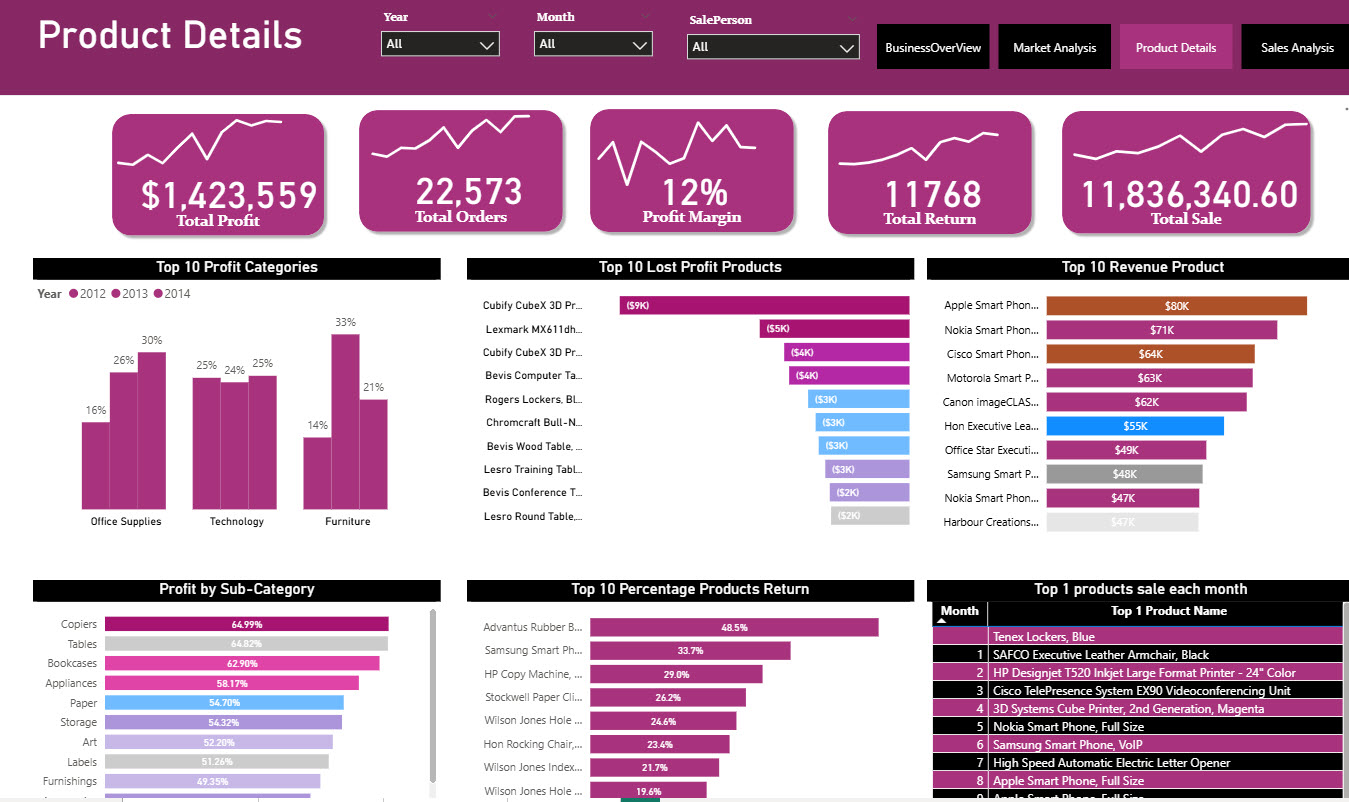

The page's visual inventory and layout, read from the dashboard file:
{"tool":"powerbi","page":{"name":"Product Details","canvas":[1512,1000],"ordinal":2},"visuals":[{"type":"shape","box":[651.6,119.1,239.9,150.1],"z":0,"group":"g3"},{"type":"shape","box":[395,120.5,239.9,148.8],"z":0,"group":"g2"},{"type":"shape","box":[915.7,120.9,239.9,150.1],"z":0,"group":"g4"},{"type":"shape","box":[1175.8,121.1,289.9,149.7],"z":0,"group":"g5"},{"type":"shape","box":[119.7,124.6,249.1,148.4],"z":0,"group":"g1"},{"type":"clusteredColumnChart","title":"Top 10 Profit Categories","fields":{"Category":["Orders.Category"],"Y":["Dim_Date.Revenue YoY Growth %"],"Series":["Dim_Date.Year"]},"box":[38.9,291.1,453.3,306.7],"z":0},{"type":"card","fields":{"Values":["Orders.Total Order"]},"box":[407.7,177.7,231.5,68.8],"z":1000,"group":"g2"},{"type":"card","fields":{"Values":["Orders.Profit Margin"]},"box":[657.9,179.3,231.2,69.4],"z":1000,"group":"g3"},{"type":"card","fields":{"Values":["Orders.Total Sales"]},"box":[1183.4,181.1,279.4,69.2],"z":1000,"group":"g5"},{"type":"card","fields":{"Values":["Orders.ReturnProduct"]},"box":[921.9,181.2,231.2,69.4],"z":1000,"group":"g4"},{"type":"card","fields":{"Values":["Orders.Total Profit"]},"box":[132,182.1,249.2,68.8],"z":1000,"group":"g1"},{"type":"clusteredBarChart","title":"Top 10  Revenue Product","fields":{"Category":["Orders.Product Name"],"Y":["Sum(Orders.Sales)"]},"box":[1032.2,291.1,480,320],"z":1000},{"type":"shape","box":[0,0,1520,111.2],"z":2000},{"type":"lineChart","fields":{"Category":["Dim_Date.Month"],"Y":["Orders.Total Profit"]},"box":[102.2,110,276.4,91],"z":2000,"group":"g1"},{"type":"lineChart","fields":{"Category":["Dim_Date.Month"],"Y":["Orders.Percentage Return"]},"box":[636.7,113.3,266.7,106.7],"z":2000,"group":"g3"},{"type":"lineChart","fields":{"Category":["Dim_Date.Month"],"Y":["Orders.Total Order"]},"box":[385.6,116.7,266.7,91.1],"z":2000,"group":"g2"},{"type":"lineChart","fields":{"Category":["Dim_Date.Month"],"Y":["Orders.ReturnProduct"]},"box":[904.4,120,268.9,93.3],"z":2000,"group":"g4"},{"type":"lineChart","fields":{"Category":["Dim_Date.Month"],"Y":["Orders.Total Sales"]},"box":[1157.8,128.2,311.1,78.9],"z":2000,"group":"g5"},{"type":"clusteredBarChart","title":"Top 10 Lost Profit Products","fields":{"Y":["Orders.Total Profit"],"Category":["Orders.Product Name"]},"box":[521.1,291.1,496.7,312.2],"z":3000},{"type":"clusteredBarChart","title":"Profit YoY Growth by Sub-Category","fields":{"Category":["Orders.Sub-Category"],"Y":["Dim_Date.Profit YoY Growth"]},"box":[38.9,648.9,453.3,312.2],"z":4000},{"type":"textbox","box":[38.8,12.5,398.8,87.5],"z":5000},{"type":"slicer","fields":{"Values":["Dim_Date.Year"]},"box":[416,10,152,61],"z":6000},{"type":"slicer","fields":{"Values":["Dim_Date.Month"]},"box":[586,10,152,61],"z":7000},{"type":"slicer","fields":{"Values":["Orders.SalePerson"]},"box":[756,13,212,61],"z":8000},{"type":"pageNavigator","box":[977,31,531,50],"z":9000},{"type":"group","id":"g1","title":"Group 5","box":[102.2,110,278.9,162.2],"z":10000},{"type":"group","id":"g2","title":"Group 5","box":[385.6,116.7,266.7,152.2],"z":11000},{"type":"clusteredBarChart","title":"Top 10 Percentage Products Return ","fields":{"Category":["Orders.Product Name"],"Y":["Orders.%Returns"]},"box":[521.1,648.9,496.7,312.2],"z":12000},{"type":"group","id":"g3","title":"Group 5","box":[636.7,113.3,266.7,155.6],"z":13000},{"type":"tableEx","title":"Top 1 products sale each month","fields":{"Values":["Dim_Date.Month","Orders.Top 1 Product Name"]},"box":[1032.2,648.9,475.6,312.2],"z":14000},{"type":"group","id":"g4","title":"Group 5","box":[904.4,120,268.9,151.1],"z":15000},{"type":"group","id":"g5","title":"Group 5","box":[1157.8,121.1,311.1,150],"z":16000}]}

Visuals, with their boxes on the page's 1512x1000 design canvas (x1, y1, x2, y2). These are canvas units, not pixel positions in the 1349x802 screenshot, which may show the page scaled, cropped or inside an application window:
shape: bbox=[652, 119, 892, 269]
shape: bbox=[395, 120, 635, 269]
shape: bbox=[916, 121, 1156, 271]
shape: bbox=[1176, 121, 1466, 271]
shape: bbox=[120, 125, 369, 273]
"Top 10 Profit Categories" clusteredColumnChart: bbox=[39, 291, 492, 598]
card - Orders.Total Order: bbox=[408, 178, 639, 246]
card - Orders.Profit Margin: bbox=[658, 179, 889, 249]
card - Orders.Total Sales: bbox=[1183, 181, 1463, 250]
card - Orders.ReturnProduct: bbox=[922, 181, 1153, 251]
card - Orders.Total Profit: bbox=[132, 182, 381, 251]
"Top 10  Revenue Product" clusteredBarChart: bbox=[1032, 291, 1512, 611]
shape: bbox=[0, 0, 1520, 111]
lineChart - Dim_Date.Month x Orders.Total Profit: bbox=[102, 110, 379, 201]
lineChart - Dim_Date.Month x Orders.Percentage Return: bbox=[637, 113, 903, 220]
lineChart - Dim_Date.Month x Orders.Total Order: bbox=[386, 117, 652, 208]
lineChart - Dim_Date.Month x Orders.ReturnProduct: bbox=[904, 120, 1173, 213]
lineChart - Dim_Date.Month x Orders.Total Sales: bbox=[1158, 128, 1469, 207]
"Top 10 Lost Profit Products" clusteredBarChart: bbox=[521, 291, 1018, 603]
"Profit YoY Growth by Sub-Category" clusteredBarChart: bbox=[39, 649, 492, 961]
textbox: bbox=[39, 12, 438, 100]
slicer - Dim_Date.Year: bbox=[416, 10, 568, 71]
slicer - Dim_Date.Month: bbox=[586, 10, 738, 71]
slicer - Orders.SalePerson: bbox=[756, 13, 968, 74]
pageNavigator: bbox=[977, 31, 1508, 81]
"Group 5" group: bbox=[102, 110, 381, 272]
"Group 5" group: bbox=[386, 117, 652, 269]
"Top 10 Percentage Products Return " clusteredBarChart: bbox=[521, 649, 1018, 961]
"Group 5" group: bbox=[637, 113, 903, 269]
"Top 1 products sale each month" tableEx: bbox=[1032, 649, 1508, 961]
"Group 5" group: bbox=[904, 120, 1173, 271]
"Group 5" group: bbox=[1158, 121, 1469, 271]
